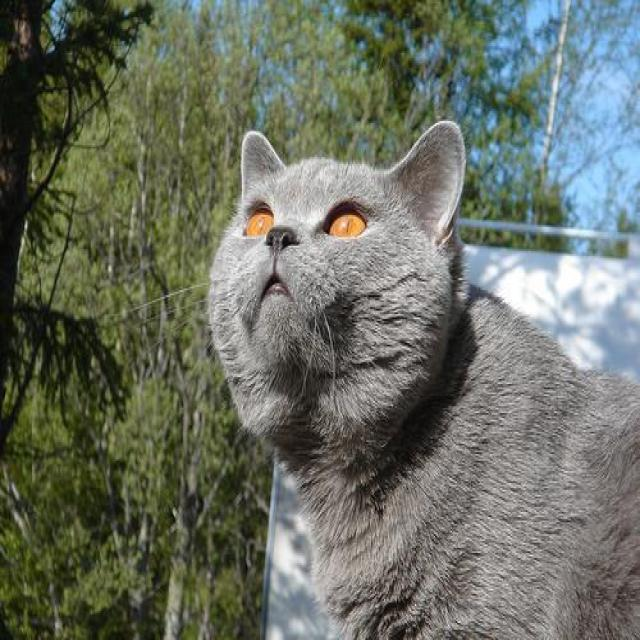cat: (206, 118, 640, 640)
